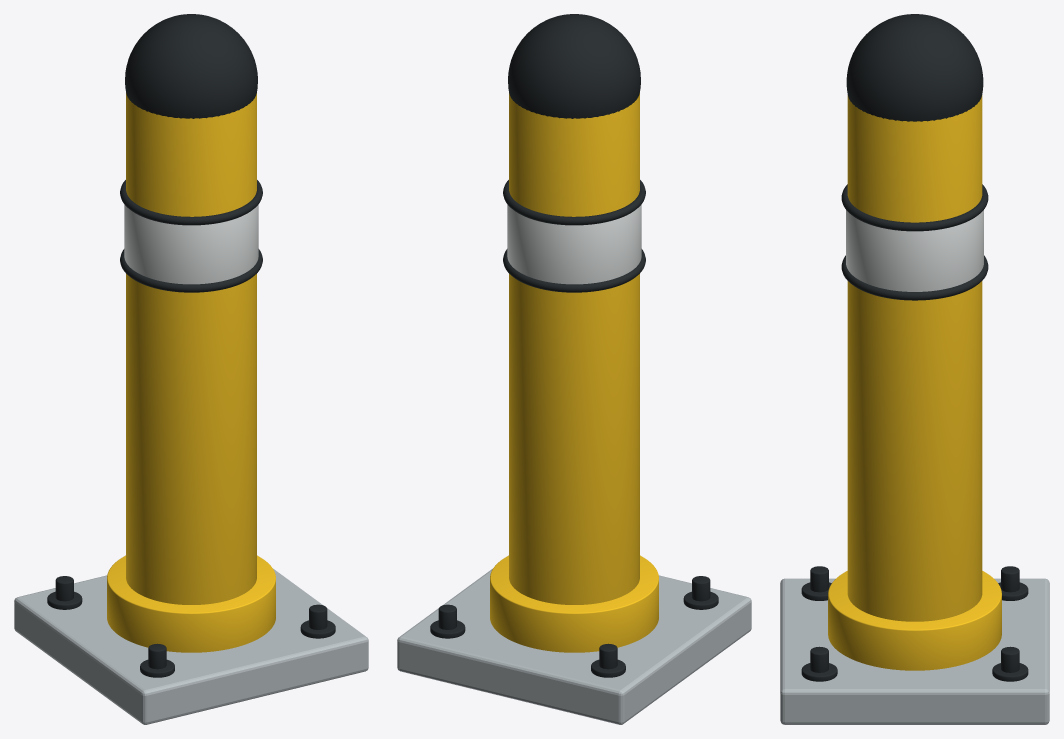
Rendered from safety_bollard.glb.
3 views of the same model, side by side, from view 1: azimuth 30°, elevation 25°; view 2: azimuth 150°, elevation 25°; view 3: azimuth 270°, elevation 25° (orthographic). The views are drawn at different scales.
Visible parts, largest first — view 1: BOLLARD_post, BOLLARD_base, BOLLARD_dome_cap, BOLLARD_base_shroud, BOLLARD_reflective_sleeve, BOLLARD_reflective_upper_edge, BOLLARD_reflective_lower_edge; view 2: BOLLARD_post, BOLLARD_base, BOLLARD_dome_cap, BOLLARD_base_shroud, BOLLARD_reflective_sleeve, BOLLARD_reflective_upper_edge, BOLLARD_reflective_lower_edge; view 3: BOLLARD_post, BOLLARD_base, BOLLARD_dome_cap, BOLLARD_base_shroud, BOLLARD_reflective_sleeve, BOLLARD_reflective_upper_edge, BOLLARD_reflective_lower_edge, ANCHOR_-0.17_0.17, ANCHOR_-0.17_-0.17, ANCHOR_0.17_0.17, ANCHOR_0.17_-0.17, ANCHOR_washer_0.17_0.17 (+1 smaller).
Boxes of the visible parts, bbox=[...] form: BOLLARD_post: bbox=[126, 93, 256, 604]; BOLLARD_base: bbox=[14, 568, 368, 724]; BOLLARD_dome_cap: bbox=[125, 14, 257, 118]; BOLLARD_base_shroud: bbox=[107, 555, 275, 652]; BOLLARD_reflective_sleeve: bbox=[124, 204, 258, 284]; BOLLARD_reflective_upper_edge: bbox=[120, 180, 262, 225]; BOLLARD_reflective_lower_edge: bbox=[120, 249, 262, 292]; BOLLARD_post: bbox=[509, 93, 639, 604]; BOLLARD_base: bbox=[397, 568, 751, 724]; BOLLARD_dome_cap: bbox=[508, 14, 640, 118]; BOLLARD_base_shroud: bbox=[490, 555, 658, 652]; BOLLARD_reflective_sleeve: bbox=[507, 204, 641, 284]; BOLLARD_reflective_upper_edge: bbox=[503, 180, 645, 225]; BOLLARD_reflective_lower_edge: bbox=[503, 249, 645, 292]; BOLLARD_post: bbox=[847, 95, 982, 621]; BOLLARD_base: bbox=[780, 578, 1049, 724]; BOLLARD_dome_cap: bbox=[846, 14, 983, 121]; BOLLARD_base_shroud: bbox=[828, 571, 1001, 670]; BOLLARD_reflective_sleeve: bbox=[846, 210, 983, 291]; BOLLARD_reflective_upper_edge: bbox=[841, 184, 988, 231]; BOLLARD_reflective_lower_edge: bbox=[841, 255, 988, 300]; ANCHOR_-0.17_0.17: bbox=[1001, 566, 1019, 592]; ANCHOR_-0.17_-0.17: bbox=[810, 566, 828, 592]; ANCHOR_0.17_0.17: bbox=[1001, 646, 1019, 672]; ANCHOR_0.17_-0.17: bbox=[810, 646, 828, 672]; ANCHOR_washer_0.17_0.17: bbox=[992, 663, 1028, 681].
Size of the model in its own units: 0.48 by 1.28 by 0.48.
